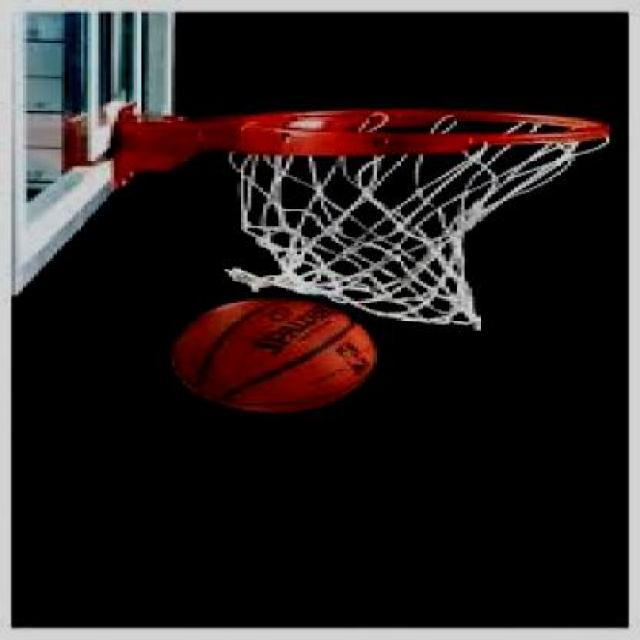Ball: (172, 300, 375, 411)
